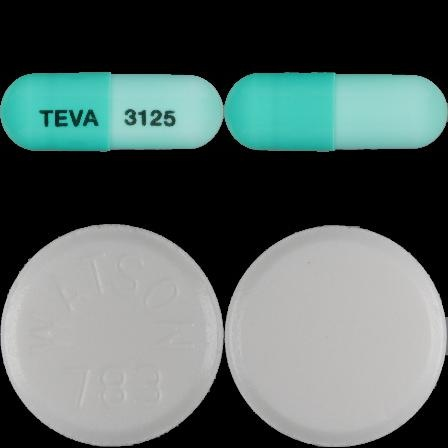66267-073: (0, 0, 224, 224)
